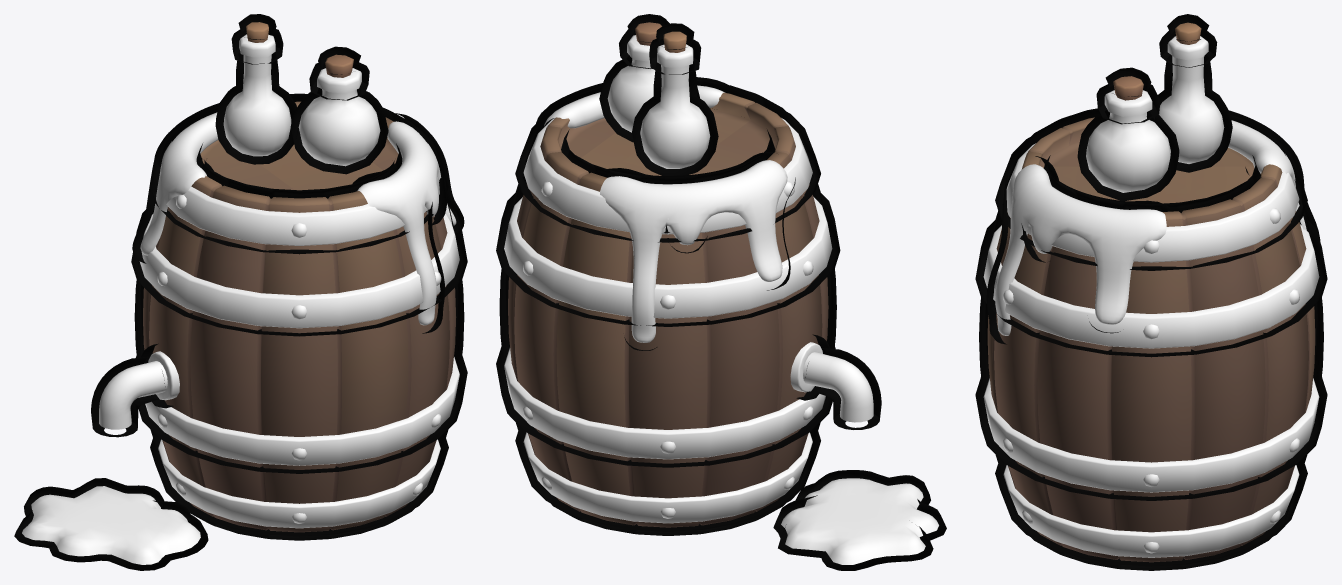
File: gizmo_poisonBarrel2.fbx
3 renders of one model, left to right at view 1: azimuth 30°, elevation 25°; view 2: azimuth 150°, elevation 25°; view 3: azimuth 270°, elevation 25°, orthographic. The views are drawn at different scales.
Visible parts, largest first — view 1: psnBarrel_Mesh.002, psnBarrel_backFace.002; view 2: psnBarrel_Mesh.002, psnBarrel_backFace.002; view 3: psnBarrel_Mesh.002, psnBarrel_backFace.002.
Boxes of the visible parts, box(x1,y1,x2,y2) form: psnBarrel_Mesh.002: box(22, 22, 459, 564); psnBarrel_backFace.002: box(14, 14, 467, 570); psnBarrel_Mesh.002: box(504, 22, 938, 564); psnBarrel_backFace.002: box(496, 14, 946, 570); psnBarrel_Mesh.002: box(983, 22, 1319, 562); psnBarrel_backFace.002: box(975, 14, 1327, 570).
Bounding box in the file's own units: 387 × 414 × 272.
